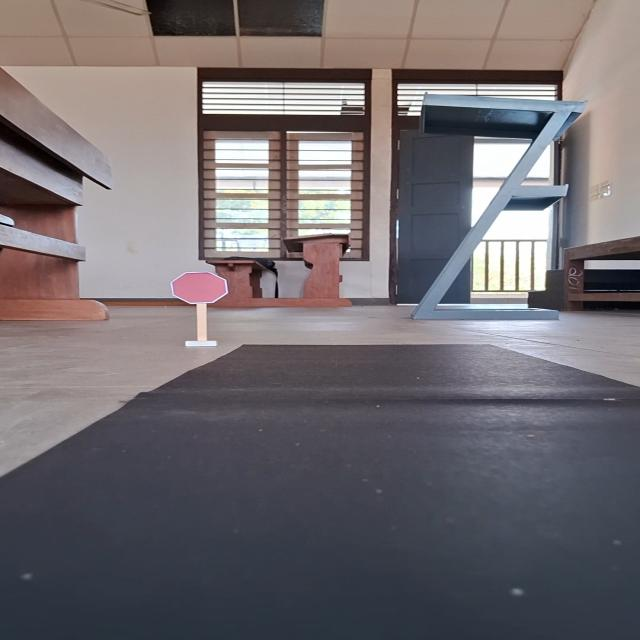Stop: (167, 269, 234, 306)
